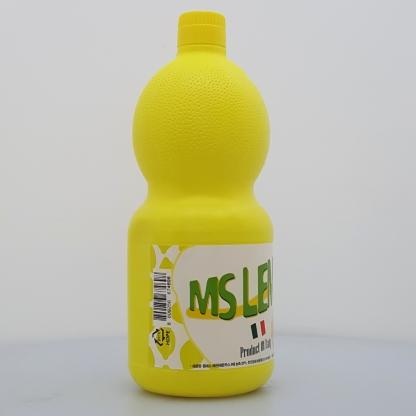-------: (127, 10, 274, 397)
